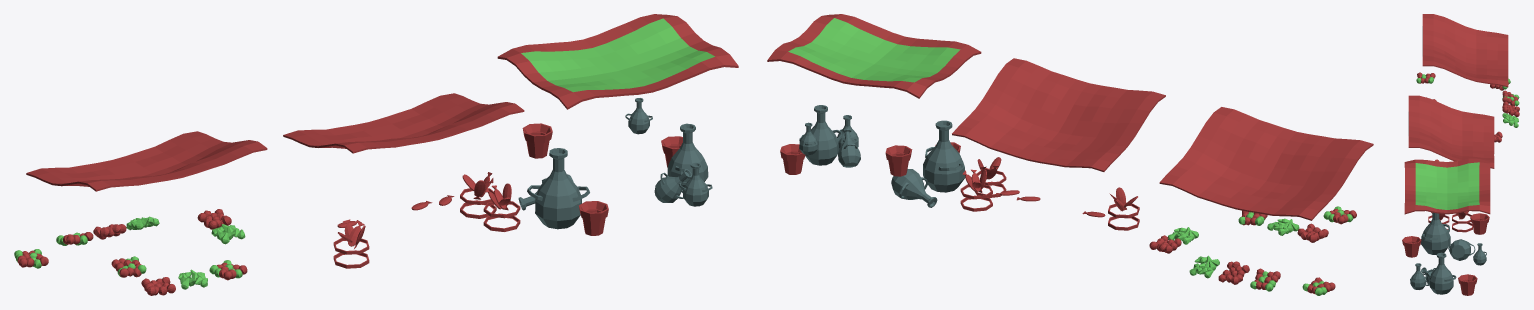
The model's file is Market_Props.glb.
3 renders of one model, left to right at view 1: azimuth 30°, elevation 25°; view 2: azimuth 150°, elevation 25°; view 3: azimuth 270°, elevation 25°, orthographic. The views are drawn at different scales.
Parts seen in each view (by area): view 1: polySurface483_Green_0, polySurface483_Gold_0, polySurface636_Gold_0, polySurface528_Gold_0, polySurface636_Blue_0, polySurface528_Dark_Red_0, polySurface493_Material.026_0, polySurface490_Material.026_0, polySurface488_Dark_Red_0, polySurface491_Dark_Red_0, polySurface498_Material.026_0, polySurface489_Material.026_0 (+3 smaller); view 2: polySurface636_Blue_0, polySurface528_Dark_Red_0, polySurface483_Green_0, polySurface528_Gold_0, polySurface636_Gold_0, polySurface483_Gold_0, polySurface493_Material.026_0, polySurface490_Material.026_0, polySurface494_Material.026_0, polySurface488_Dark_Red_0, polySurface497_Dark_Red_0, polySurface489_Material.026_0 (+3 smaller); view 3: polySurface636_Blue_0, polySurface483_Green_0, polySurface528_Dark_Red_0, polySurface636_Gold_0, polySurface483_Gold_0, polySurface528_Gold_0, polySurface493_Material.026_0, polySurface490_Material.026_0, polySurface494_Material.026_0, polySurface488_Dark_Red_0, polySurface491_Dark_Red_0, polySurface497_Dark_Red_0 (+4 smaller).
Part boxes in pixels (left/top/right/bottom): polySurface483_Green_0: left=521, top=18, right=714, bottom=92; polySurface483_Gold_0: left=497, top=14, right=738, bottom=109; polySurface636_Gold_0: left=26, top=131, right=267, bottom=191; polySurface528_Gold_0: left=283, top=93, right=524, bottom=153; polySurface636_Blue_0: left=50, top=138, right=243, bottom=186; polySurface528_Dark_Red_0: left=307, top=100, right=499, bottom=148; polySurface493_Material.026_0: left=527, top=148, right=589, bottom=229; polySurface490_Material.026_0: left=667, top=123, right=708, bottom=189; polySurface488_Dark_Red_0: left=522, top=123, right=552, bottom=158; polySurface491_Dark_Red_0: left=578, top=201, right=608, bottom=235; polySurface498_Material.026_0: left=679, top=162, right=712, bottom=206; polySurface489_Material.026_0: left=654, top=169, right=691, bottom=202; polySurface636_Blue_0: left=1180, top=116, right=1352, bottom=208; polySurface528_Dark_Red_0: left=972, top=68, right=1144, bottom=159; polySurface483_Green_0: left=788, top=18, right=960, bottom=82; polySurface528_Gold_0: left=952, top=58, right=1165, bottom=171; polySurface636_Gold_0: left=1159, top=107, right=1373, bottom=220; polySurface483_Gold_0: left=767, top=14, right=981, bottom=98; polySurface493_Material.026_0: left=923, top=120, right=965, bottom=192; polySurface490_Material.026_0: left=799, top=105, right=842, bottom=165; polySurface494_Material.026_0: left=891, top=169, right=937, bottom=207; polySurface488_Dark_Red_0: left=885, top=145, right=912, bottom=176; polySurface497_Dark_Red_0: left=780, top=144, right=805, bottom=174; polySurface489_Material.026_0: left=838, top=128, right=860, bottom=167; polySurface636_Blue_0: left=1433, top=19, right=1497, bottom=79; polySurface483_Green_0: left=1415, top=162, right=1479, bottom=209; polySurface528_Dark_Red_0: left=1419, top=100, right=1483, bottom=159; polySurface636_Gold_0: left=1422, top=14, right=1508, bottom=86; polySurface483_Gold_0: left=1404, top=158, right=1490, bottom=214; polySurface528_Gold_0: left=1408, top=95, right=1494, bottom=168; polySurface493_Material.026_0: left=1421, top=212, right=1450, bottom=254; polySurface490_Material.026_0: left=1427, top=252, right=1456, bottom=294; polySurface494_Material.026_0: left=1448, top=239, right=1475, bottom=260; polySurface488_Dark_Red_0: left=1470, top=213, right=1489, bottom=234; polySurface491_Dark_Red_0: left=1402, top=236, right=1421, bottom=257; polySurface497_Dark_Red_0: left=1458, top=274, right=1477, bottom=295.
Bounding box in the file's own units: 22.24 × 5.32 × 5.73.
